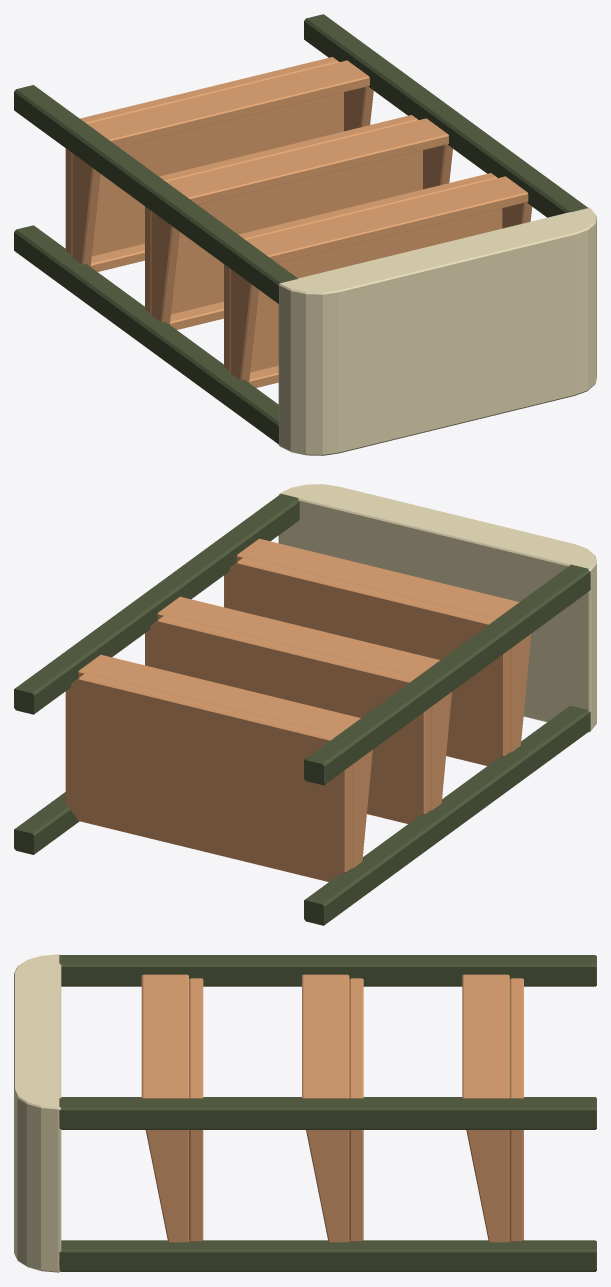
File: fixture_05_bakery_rack.glb
The picture shows the model from 3 angles, top to bottom: view 1: azimuth 30°, elevation 25°; view 2: azimuth 150°, elevation 25°; view 3: azimuth 270°, elevation 25°; orthographic projection.
Parts seen in each view (by area): view 1: fixture_05_bakery_rack; view 2: fixture_05_bakery_rack; view 3: fixture_05_bakery_rack.
Part boxes in pixels (x1,y1,x2,y2): fixture_05_bakery_rack: (14, 14, 596, 455); fixture_05_bakery_rack: (14, 484, 596, 925); fixture_05_bakery_rack: (14, 954, 596, 1272).
Size of what is drawn, in the model's own units: 1 by 0.5 by 1.6.
